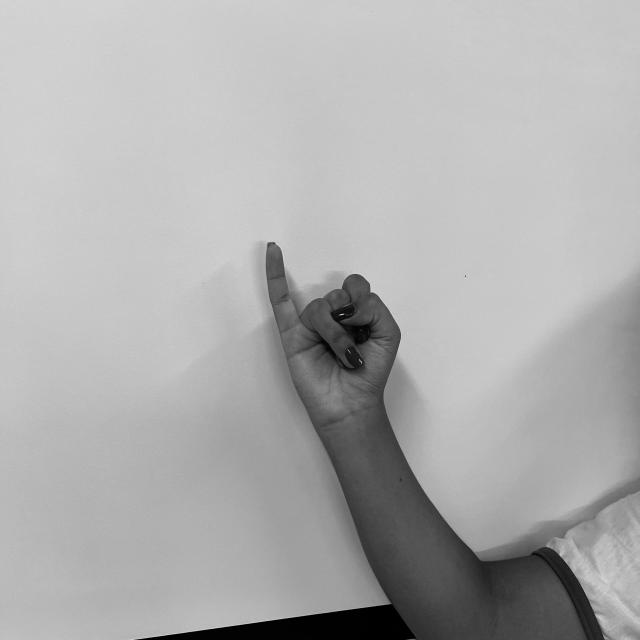Letra I: (259, 236, 409, 427)
